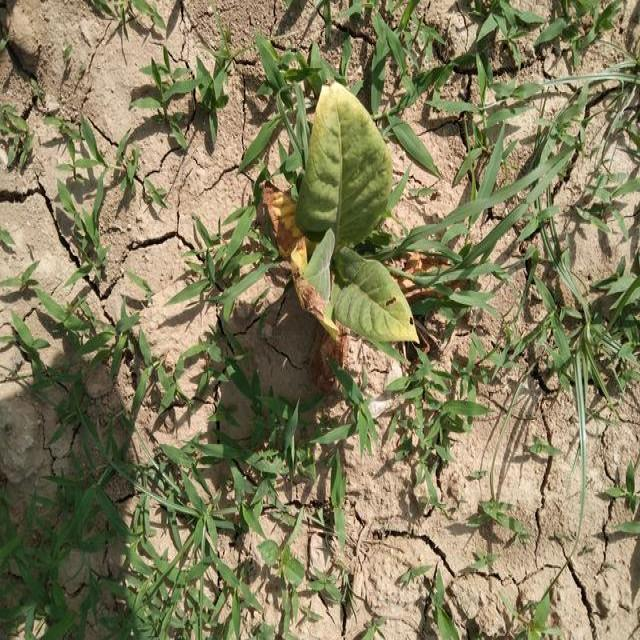crop: (286, 70, 430, 377)
